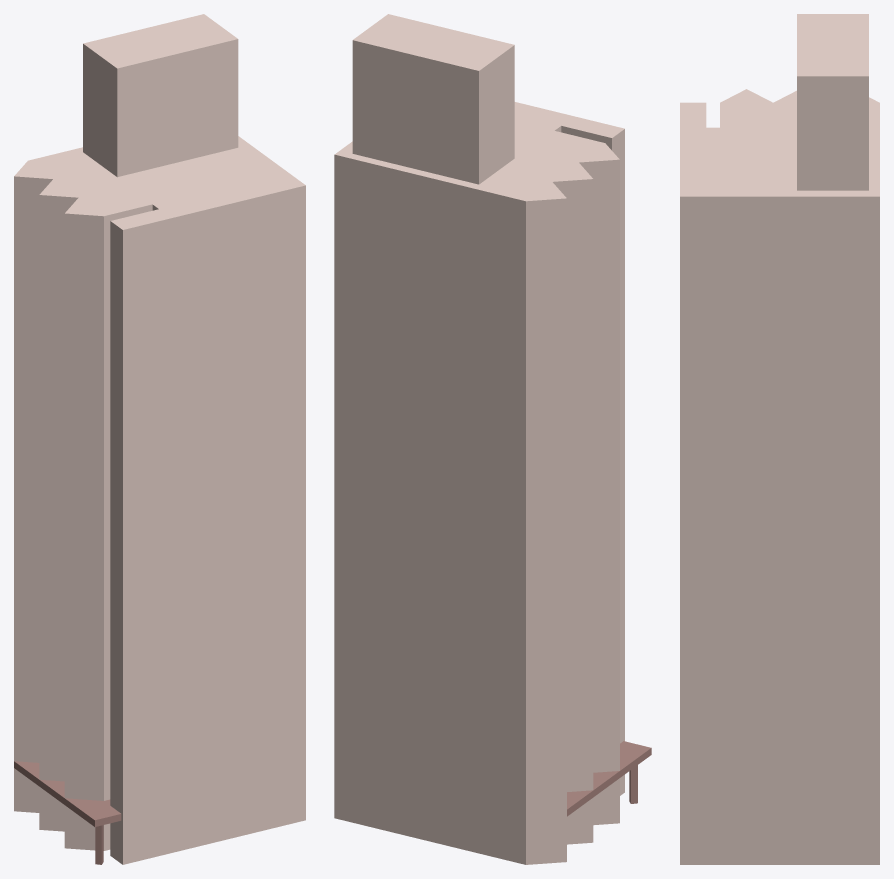
The model's file is Edificio003.FBX.
3 views of the same model, side by side, from view 1: azimuth 30°, elevation 25°; view 2: azimuth 150°, elevation 25°; view 3: azimuth 270°, elevation 25° (orthographic). The views are drawn at different scales.
Parts seen in each view (by area): view 1: Edificio003; view 2: Edificio003; view 3: Edificio003.
Boxes of the visible parts, left/top/right/bottom form: Edificio003: left=14, top=14, right=305, bottom=864; Edificio003: left=334, top=14, right=651, bottom=864; Edificio003: left=680, top=14, right=879, bottom=864.
Bounding box in the file's own units: 759 × 2570 × 594.
